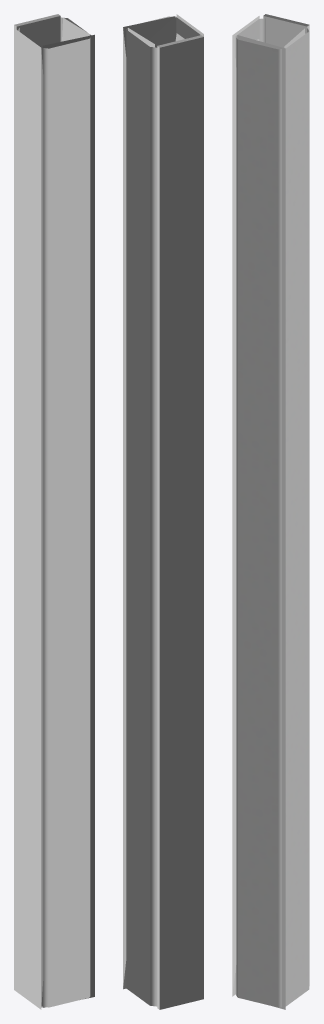
Rendered from SM_LightSupport_CeilingSupport_01a.fbx.
3 renders of one model, left to right at view 1: azimuth 30°, elevation 25°; view 2: azimuth 210°, elevation 25°; view 3: azimuth 330°, elevation 25°, orthographic.
Parts seen in each view (by area): view 1: SM_LightSupport_CeilingSupport_01a, SM_LightSupport_CeilingSupport_01a_ConvexHulls; view 2: SM_LightSupport_CeilingSupport_01a_ConvexHulls, SM_LightSupport_CeilingSupport_01a; view 3: SM_LightSupport_CeilingSupport_01a, SM_LightSupport_CeilingSupport_01a_ConvexHulls.
Boxes of the visible parts, x1=… form: SM_LightSupport_CeilingSupport_01a: x1=18, y1=17, x2=90, y2=1007; SM_LightSupport_CeilingSupport_01a_ConvexHulls: x1=14, y1=14, x2=94, y2=1009; SM_LightSupport_CeilingSupport_01a_ConvexHulls: x1=123, y1=14, x2=203, y2=1009; SM_LightSupport_CeilingSupport_01a: x1=126, y1=16, x2=200, y2=1006; SM_LightSupport_CeilingSupport_01a: x1=235, y1=18, x2=309, y2=1007; SM_LightSupport_CeilingSupport_01a_ConvexHulls: x1=232, y1=14, x2=309, y2=1009.
Size of the model in its own units: 5.36 by 5.46 by 92.02.
2 materials, 1 textured.
